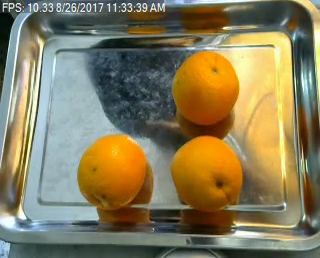Orange: (169, 135, 242, 212), (76, 134, 145, 208), (172, 49, 239, 124)
